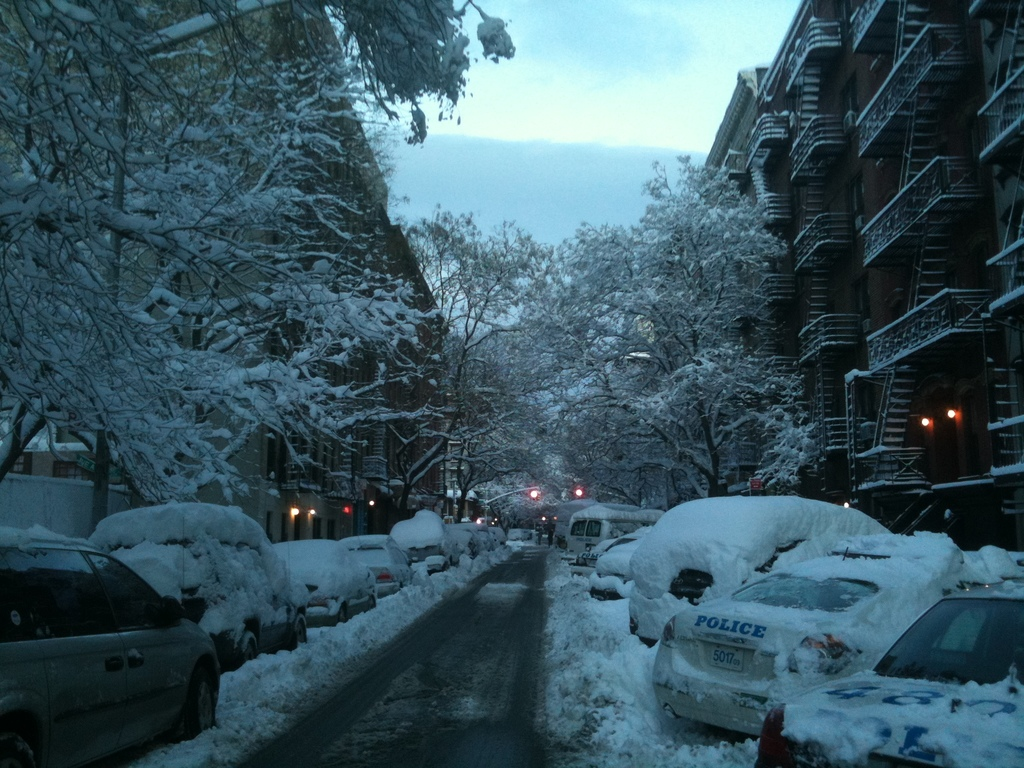Car: (649, 545, 1016, 739), (758, 581, 1023, 767), (2, 555, 246, 748), (631, 529, 893, 647), (110, 540, 302, 666), (280, 541, 376, 620), (348, 537, 417, 599), (595, 528, 649, 591), (397, 520, 459, 567)
